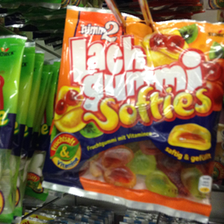candy: (45, 6, 224, 223)
